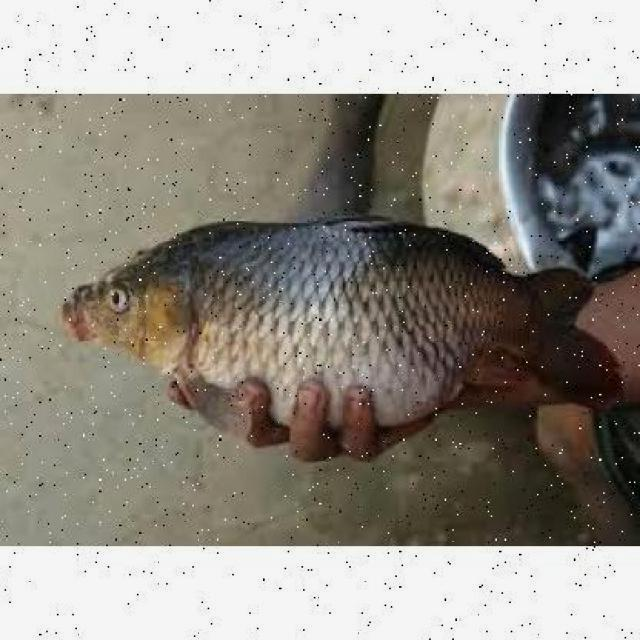ikan-mas: (56, 205, 622, 448)
